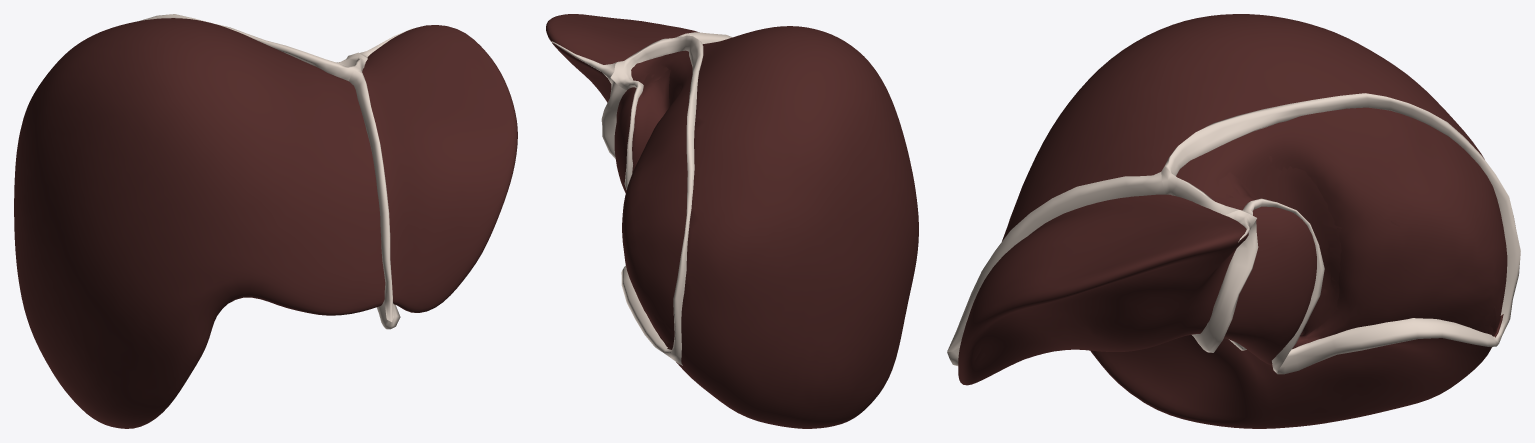
File: liver.glb
3 views of the same model, side by side, from view 1: azimuth 30°, elevation 25°; view 2: azimuth 150°, elevation 25°; view 3: azimuth 270°, elevation 25° (orthographic). The views are drawn at different scales.
Parts seen in each view (by area): view 1: VH_M_bare_area_of_liver, VH_M_hepataduodenal_ligament; view 2: VH_M_bare_area_of_liver, VH_M_hepataduodenal_ligament; view 3: VH_M_bare_area_of_liver, VH_M_hepataduodenal_ligament.
Part boxes in pixels (x1,y1,x2,y2): VH_M_bare_area_of_liver: (14,18,517,428); VH_M_hepataduodenal_ligament: (140,14,413,329); VH_M_bare_area_of_liver: (546,14,918,428); VH_M_hepataduodenal_ligament: (551,32,732,365); VH_M_bare_area_of_liver: (958,14,1507,428); VH_M_hepataduodenal_ligament: (947,93,1520,374).
Size of the model in its own units: 0.1914 by 0.1746 by 0.2018.
